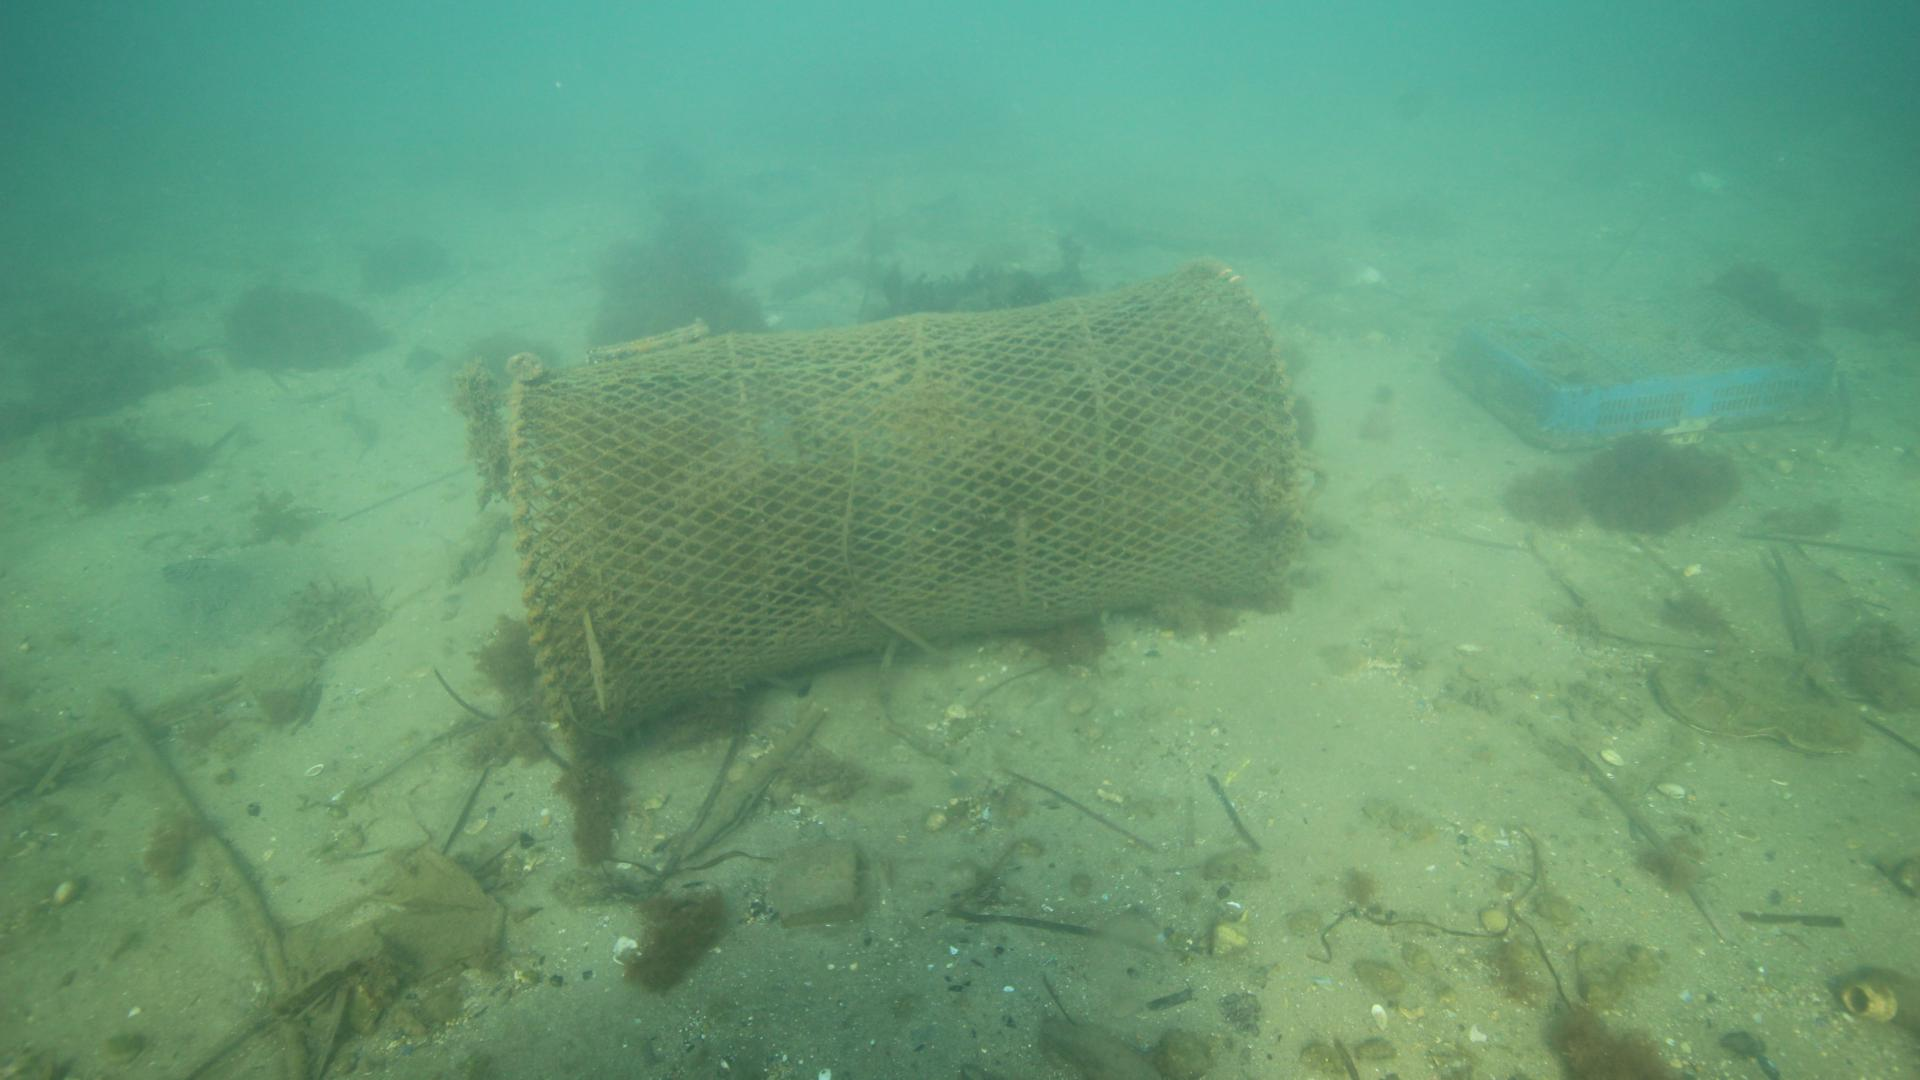spring fish trap: (501, 253, 1302, 756)
